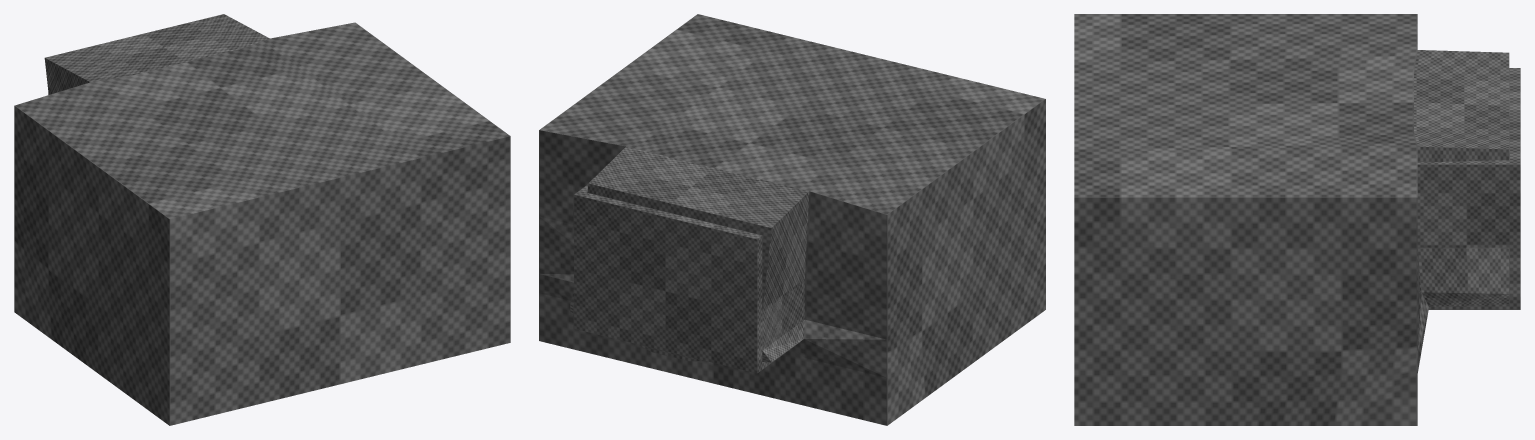
Rendered from Volumetric Test.obj.
The picture shows the model from 3 angles, left to right: view 1: azimuth 30°, elevation 25°; view 2: azimuth 150°, elevation 25°; view 3: azimuth 270°, elevation 25°; orthographic projection. The views are drawn at different scales.
Visible parts, largest first — view 1: Plane; view 2: Plane; view 3: Plane.
Boxes of the visible parts, x1,y1,x2,y2 form: Plane: (14, 14, 510, 425); Plane: (539, 14, 1045, 425); Plane: (1074, 14, 1520, 425).
Size of the model in its own units: 38 by 22.5 by 39.
